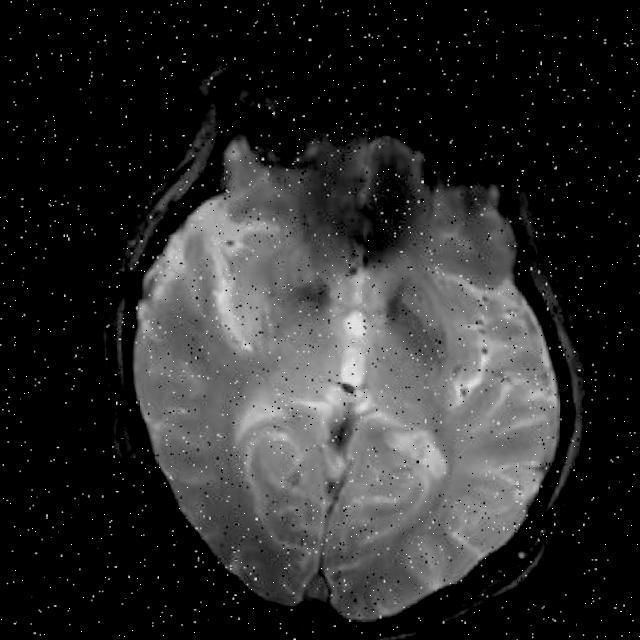EMCI: (243, 248, 339, 348)
LMCI: (302, 140, 400, 256)
MCI: (356, 237, 450, 391)
